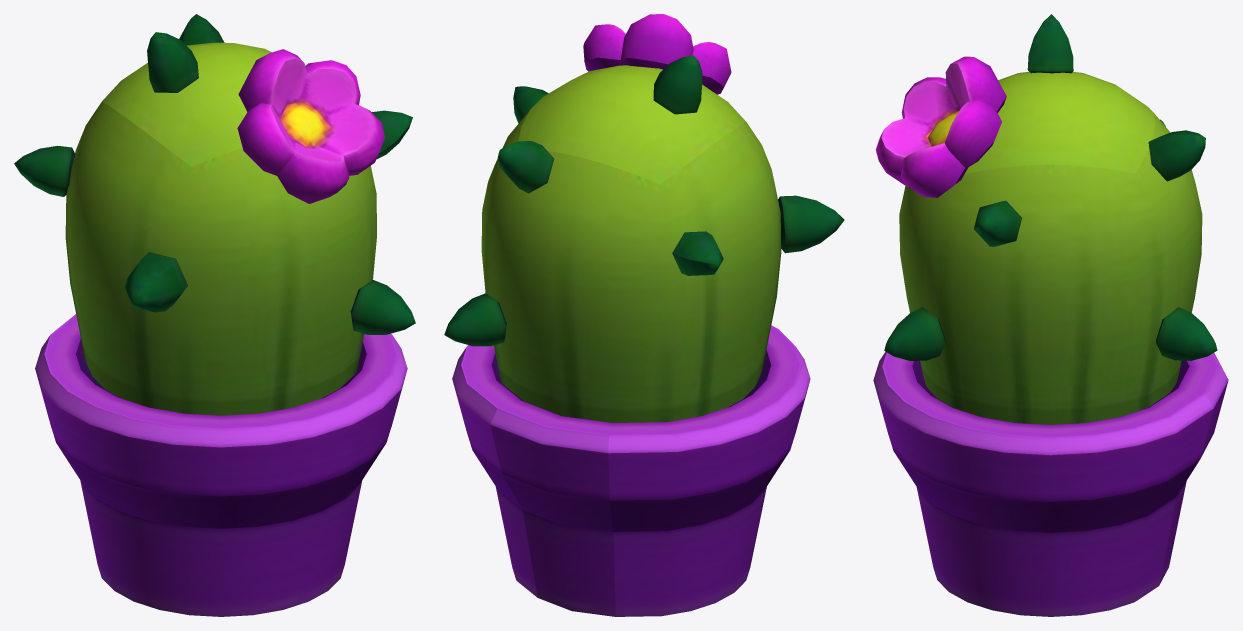
Rendered from cactus.fbx.
3 renders of one model, left to right at view 1: azimuth 30°, elevation 25°; view 2: azimuth 150°, elevation 25°; view 3: azimuth 270°, elevation 25°, orthographic. The views are drawn at different scales.
Parts seen in each view (by area): view 1: Object_0; view 2: Object_0; view 3: Object_0.
Boxes of the visible parts, bbox=[...] form: Object_0: bbox=[14, 14, 415, 616]; Object_0: bbox=[444, 14, 844, 616]; Object_0: bbox=[873, 14, 1228, 616].
Size of the model in its own units: 104 by 169 by 104.
